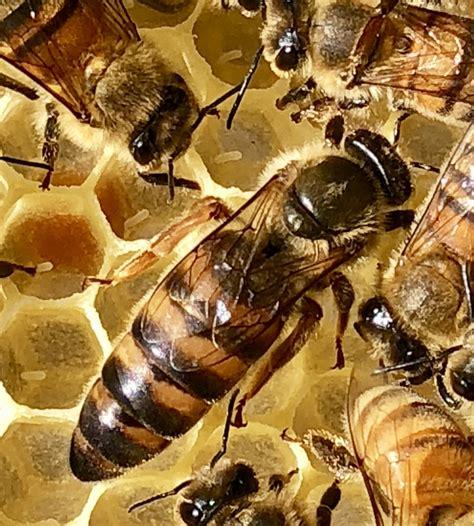Queen-Bee: (70, 129, 412, 480)
